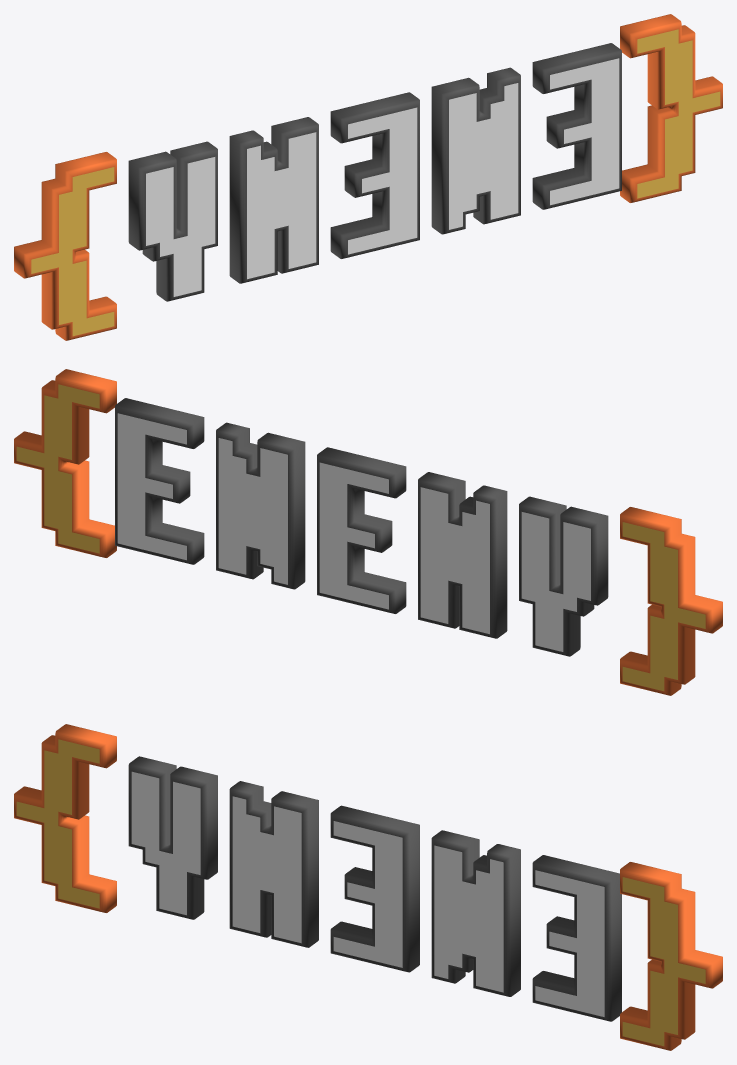
The model's file is ENEMY.fbx.
3 views of the same model, one above another, from view 1: azimuth 30°, elevation 25°; view 2: azimuth 150°, elevation 25°; view 3: azimuth 330°, elevation 25° (orthographic).
Parts seen in each view (by area): view 1: Text, Text.001; view 2: Text, Text.001; view 3: Text, Text.001.
Part boxes in pixels (x1,y1,x2,y2): Text: [31, 29, 720, 336]; Text.001: [14, 14, 722, 340]; Text: [16, 384, 705, 691]; Text.001: [14, 369, 722, 695]; Text: [16, 739, 705, 1046]; Text.001: [14, 724, 722, 1050].
Size of the model in its own units: 7766 by 1800 by 280.
